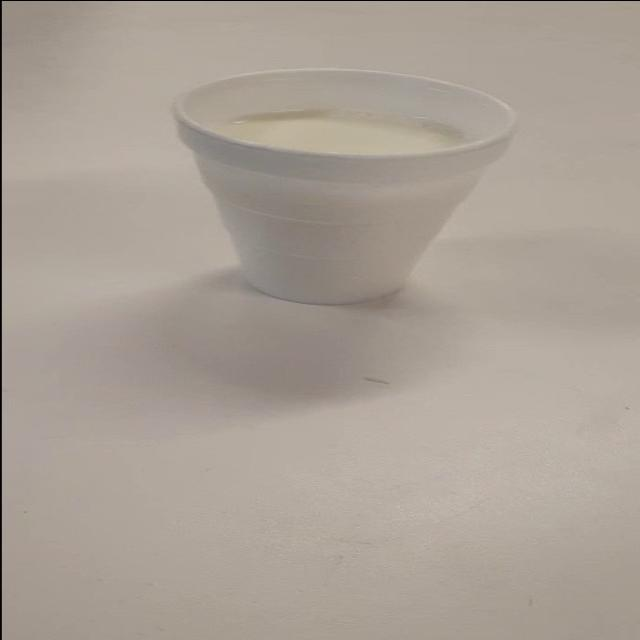Milk: (151, 51, 571, 322)
